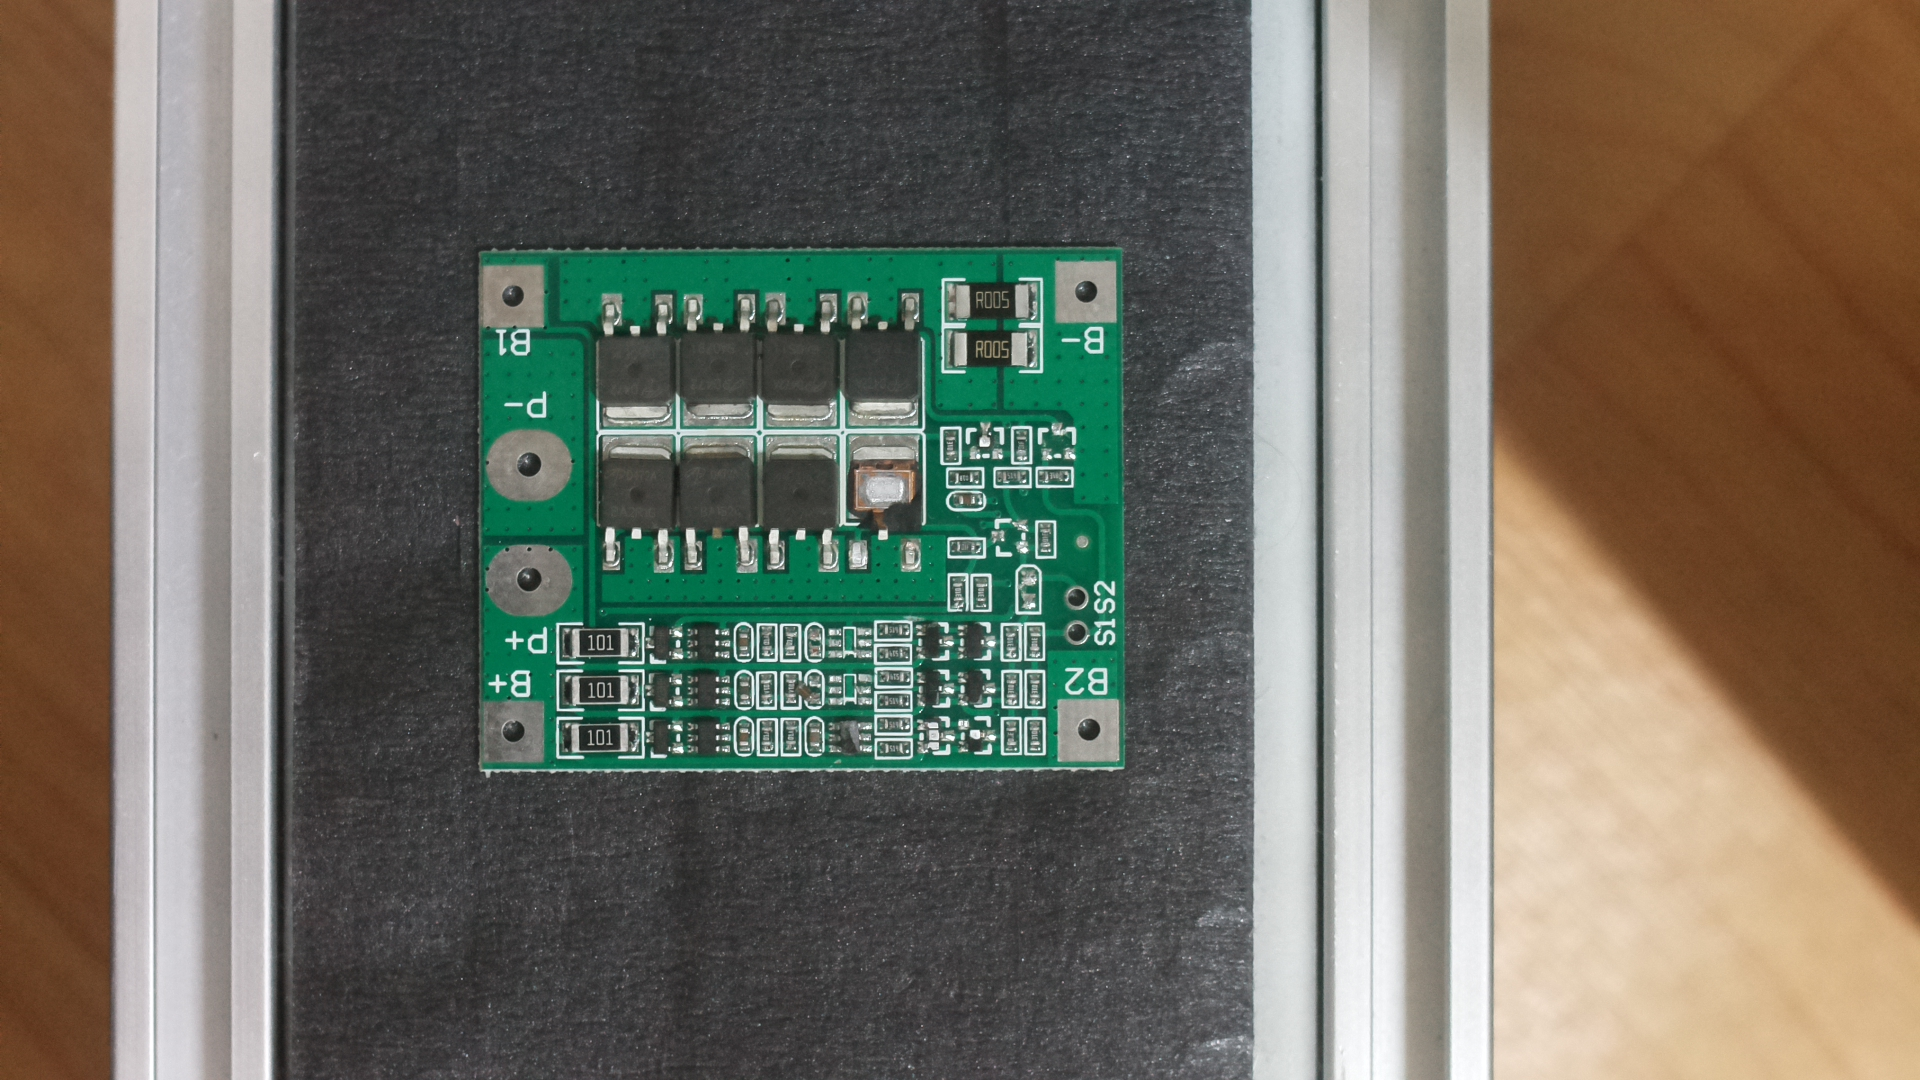C_Missing_part: (468, 229, 1149, 790)
